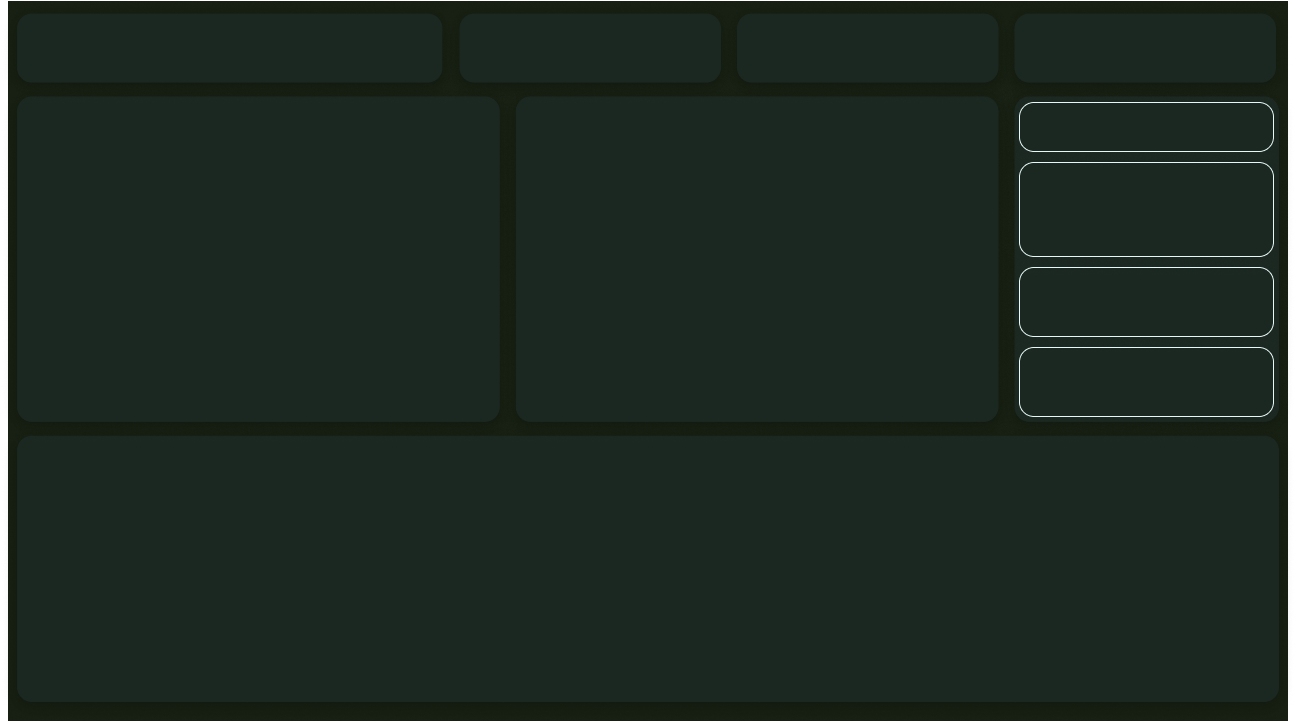

Layout of this report page (visuals, bound fields, positions):
{"tool":"powerbi","page":{"name":"Page 1","canvas":[1280,720],"ordinal":0},"visuals":[{"type":"card","title":"Return Rate ","fields":{"Values":[" MeasuresTable.Return Rate KPI Card"]},"box":[450,8,260.2,69.3],"z":0},{"type":"card","title":"Avg Return Value ","fields":{"Values":[" MeasuresTable.Avg Return Value KPI Card"]},"box":[1006.8,8,260.2,69.3],"z":1000},{"type":"card","title":"Return Count","fields":{"Values":[" MeasuresTable.Return Count KPI Card"]},"box":[726.1,8,260.2,69.3],"z":2000},{"type":"lineChart","fields":{"Y":[" MeasuresTable.Monthly_Return_Count"," MeasuresTable.Monthly_Return_Count_YoY"],"Category":["DateTable.Month Year"]},"box":[11.4,429.5,1255.7,269.3],"z":3000},{"type":"clusteredColumnChart","title":"Top 5 Employees by Returns (YoY)","fields":{"Category":["People.Person"],"Y":[" MeasuresTable.Return_Count"," MeasuresTable.Return_Count_YoY"]},"box":[13.6,94.3,476.1,327.3],"z":4000},{"type":"donutChart","title":"Emplyee-wise % Contribution to Returns (YoY)","fields":{"Y":[" MeasuresTable.Return_Contribution%"],"Category":["People.Person"]},"box":[511.4,94.3,475,327.3],"z":5000},{"type":"slicer","title":"Select Date","fields":{"Values":["DateTable.Date"]},"box":[1013.6,156.8,250,97.7],"z":6000},{"type":"slicer","title":"Select Person","fields":{"Values":["People.Person"]},"box":[1014.8,267,250,67],"z":7000},{"type":"slicer","title":"Select Region","fields":{"Values":["People.Region"]},"box":[1014.8,344.3,250,67],"z":8000},{"type":"shape","box":[1013.6,96.6,250,46.6],"z":9000},{"type":"shape","box":[13.6,17,415.9,60.2],"z":10000},{"type":"image","box":[1051.1,103.4,35.2,35.2],"z":11000}]}

Visuals, with their boxes in screenshot pixels (x1, y1, x2, y2), scaled from the page's 1280x720 canvas onto the 1296x723 screenshot:
"Return Rate " card: 456, 8, 719, 78
"Avg Return Value " card: 1019, 8, 1283, 78
"Return Count" card: 735, 8, 999, 78
lineChart -  MeasuresTable.Monthly_Return_Count x  MeasuresTable.Monthly_Return_Count_YoY: 12, 431, 1283, 702
"Top 5 Employees by Returns (YoY)" clusteredColumnChart: 14, 95, 496, 423
"Emplyee-wise % Contribution to Returns (YoY)" donutChart: 518, 95, 999, 423
"Select Date" slicer: 1026, 157, 1279, 256
"Select Person" slicer: 1027, 268, 1281, 335
"Select Region" slicer: 1027, 346, 1281, 413
shape: 1026, 97, 1279, 144
shape: 14, 17, 435, 78
image: 1064, 104, 1100, 139
